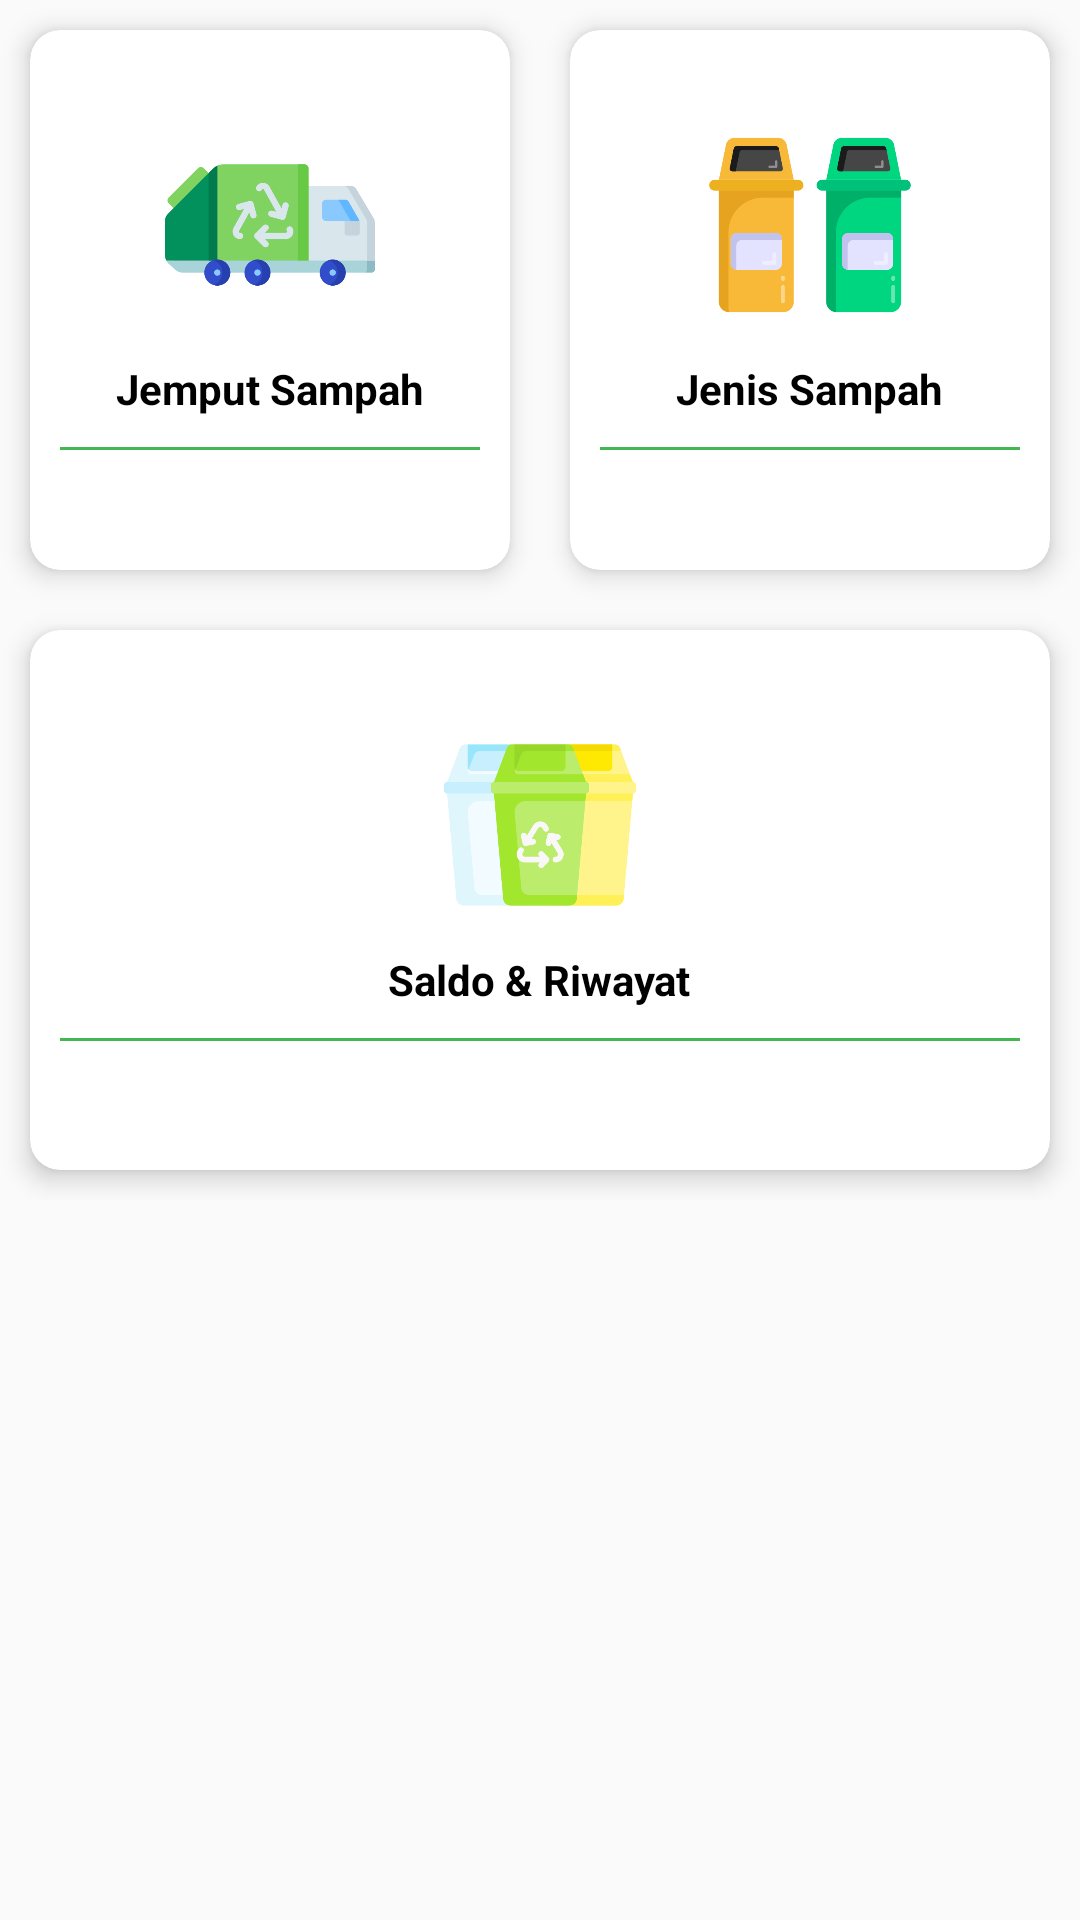

Screen size 1080w x 1920h. Icon name, then its center in pixels as [x,y]:
recycle: [540,825]
truk: [270,225]
